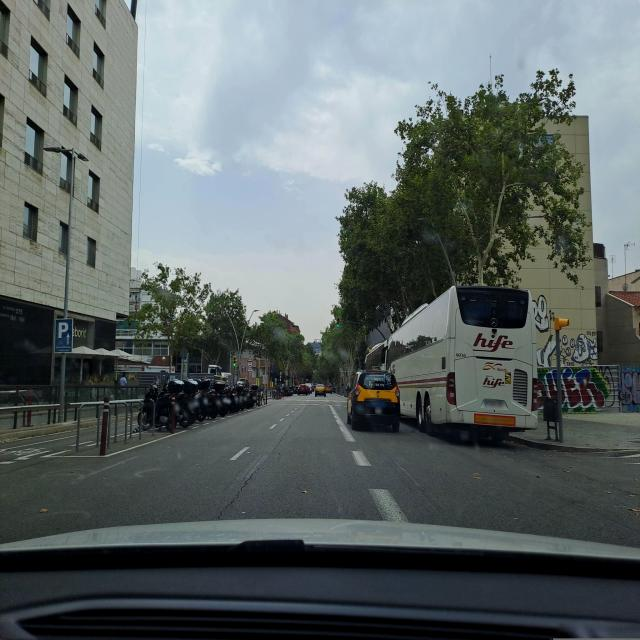bike: (173, 377, 209, 421), (158, 382, 190, 428), (210, 380, 236, 414), (229, 385, 253, 410)
car: (346, 368, 401, 432), (314, 382, 327, 398), (324, 382, 334, 394), (298, 384, 308, 395)
